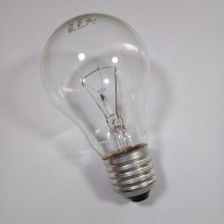light_bulb: (37, 8, 166, 208)
